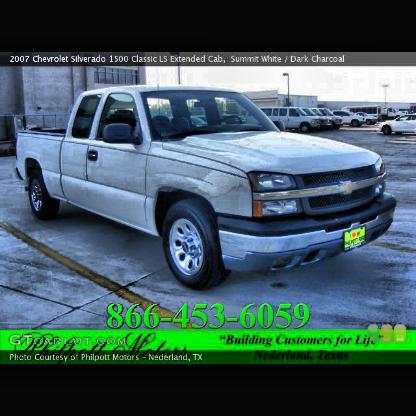Chevrolet Silverado 1500 Classic Extended Cab 2007: (10, 76, 400, 302)
